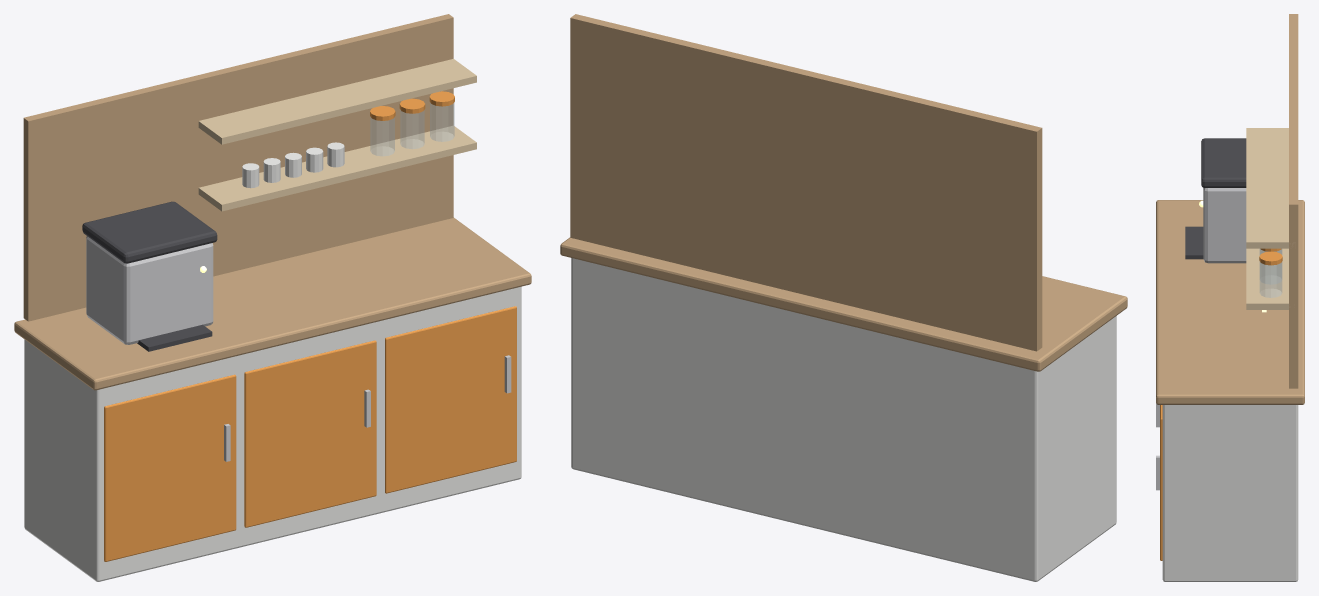
File: coffee_station.glb
The picture shows the model from 3 angles, left to right: view 1: azimuth 30°, elevation 25°; view 2: azimuth 150°, elevation 25°; view 3: azimuth 270°, elevation 25°; orthographic projection. The views are drawn at different scales.
Parts seen in each view (by area): view 1: coffee_station; view 2: coffee_station; view 3: coffee_station.
Part boxes in pixels (x1,y1,x2,y2): coffee_station: [14, 14, 531, 581]; coffee_station: [560, 14, 1127, 581]; coffee_station: [1156, 14, 1304, 581].
Bounding box in the file's own units: 2.06 × 1.85 × 0.66.
